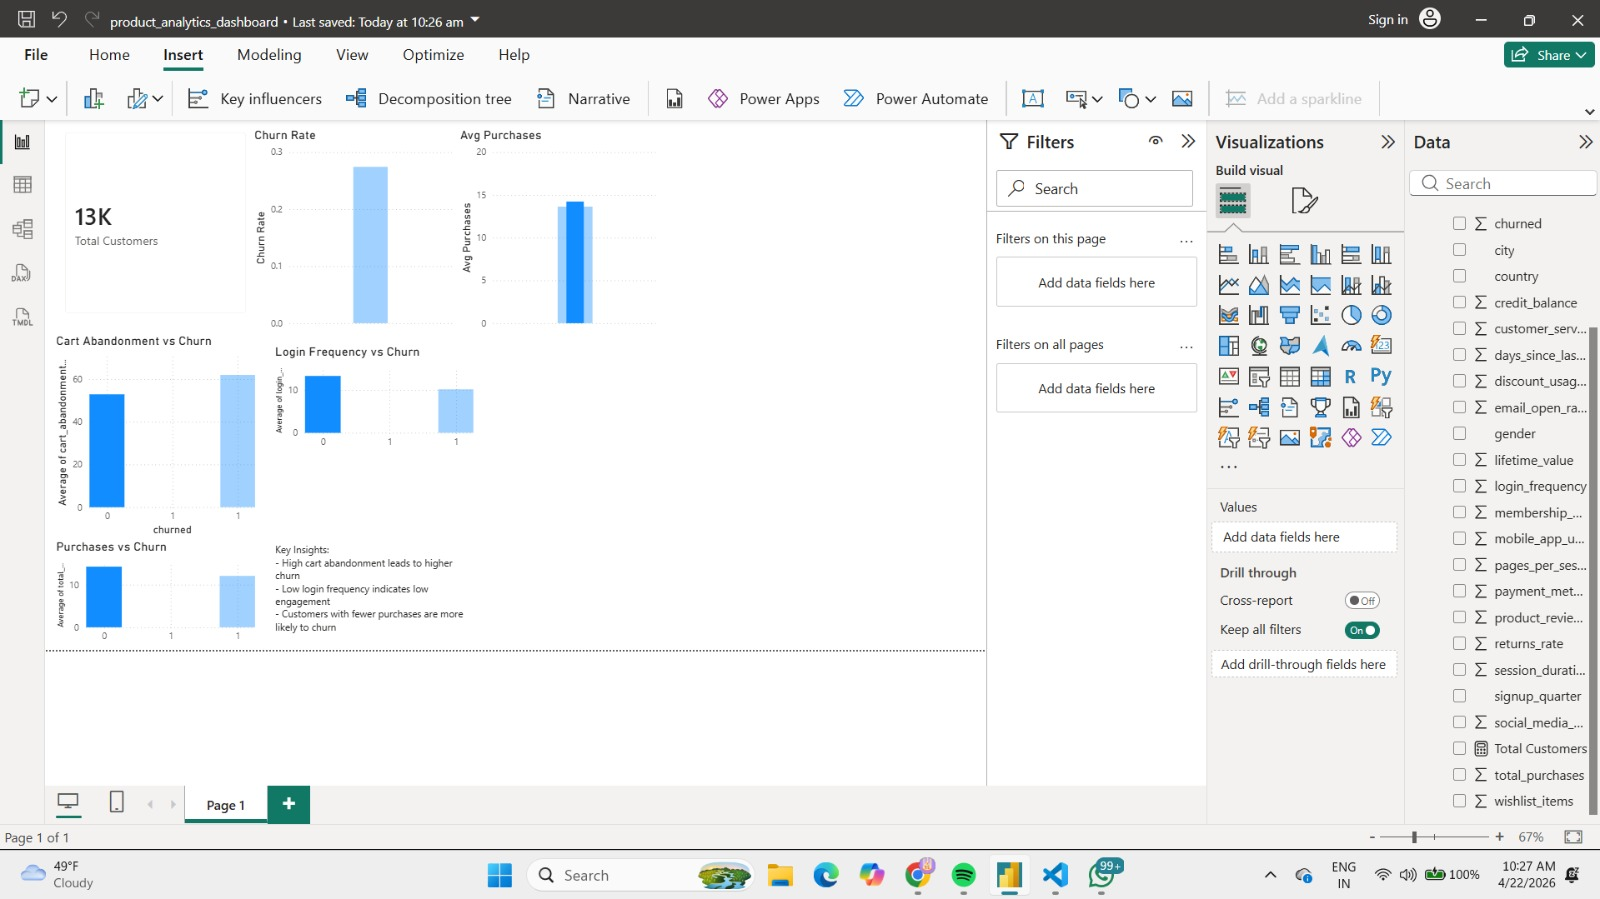

The dashboard page shown, as its layout file describes it:
{"tool":"powerbi","page":{"name":"Page 1","canvas":[1280,720],"ordinal":0},"visuals":[{"type":"cardVisual","fields":{"Data":["cleaned_data.Total Customers"]},"box":[10,0,280,280],"z":0},{"type":"clusteredColumnChart","fields":{"Y":["cleaned_data.Churn Rate"]},"box":[279.6,10.4,279.6,279.6],"z":1},{"type":"clusteredColumnChart","fields":{"Y":["cleaned_data.Avg Purchases"]},"box":[559.3,10.4,279.6,279.6],"z":2},{"type":"clusteredColumnChart","title":"Cart Abandonment vs Churn","fields":{"Category":["cleaned_data.churned"],"Y":["Avg(cleaned_data.cart_abandonment_rate)"]},"box":[10,290,280,280],"z":3},{"type":"clusteredColumnChart","title":"Login Frequency vs Churn","fields":{"Category":["cleaned_data.churned"],"Y":["Avg(cleaned_data.login_frequency)"]},"box":[307.9,304.9,279.6,150.2],"z":4},{"type":"clusteredColumnChart","title":"Purchases vs Churn","fields":{"Category":["cleaned_data.churned"],"Y":["Avg(cleaned_data.total_purchases)"]},"box":[10,570,280,150],"z":5},{"type":"textbox","box":[308,570,280,150],"z":6}]}

Visuals, with their boxes on the page's 1280x720 design canvas (x1, y1, x2, y2). These are canvas units, not pixel positions in the 1600x899 screenshot, which may show the page scaled, cropped or inside an application window:
cardVisual - cleaned_data.Total Customers: crop(10, 0, 290, 280)
clusteredColumnChart - cleaned_data.Churn Rate: crop(280, 10, 559, 290)
clusteredColumnChart - cleaned_data.Avg Purchases: crop(559, 10, 839, 290)
"Cart Abandonment vs Churn" clusteredColumnChart: crop(10, 290, 290, 570)
"Login Frequency vs Churn" clusteredColumnChart: crop(308, 305, 588, 455)
"Purchases vs Churn" clusteredColumnChart: crop(10, 570, 290, 720)
textbox: crop(308, 570, 588, 720)
